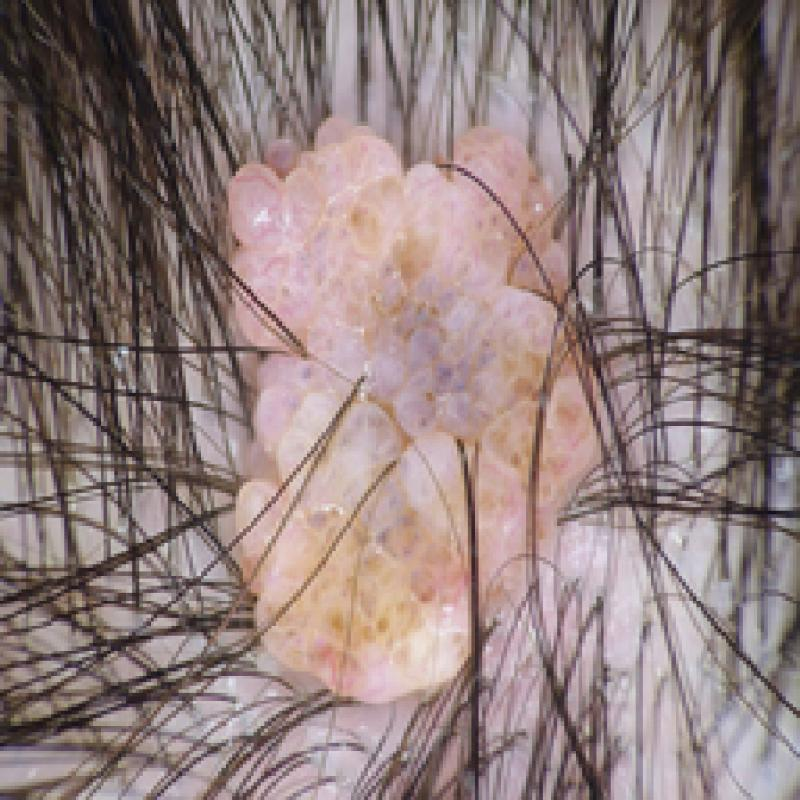benign: (128, 42, 674, 730)
